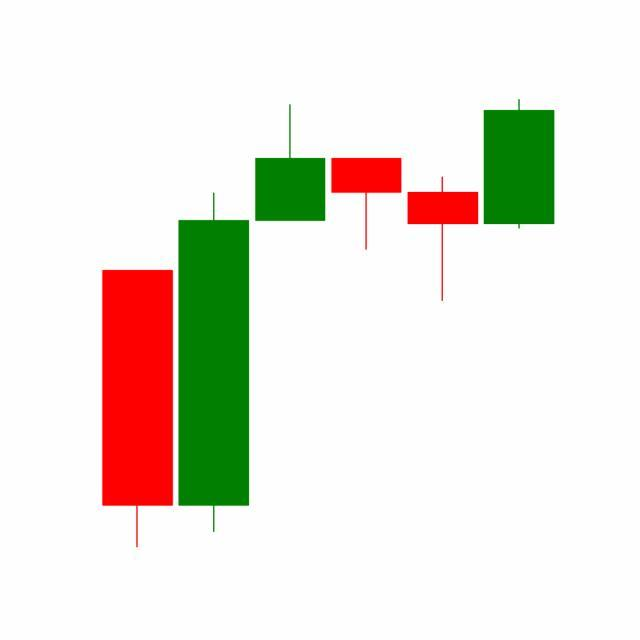Hammer: (404, 176, 482, 304)
